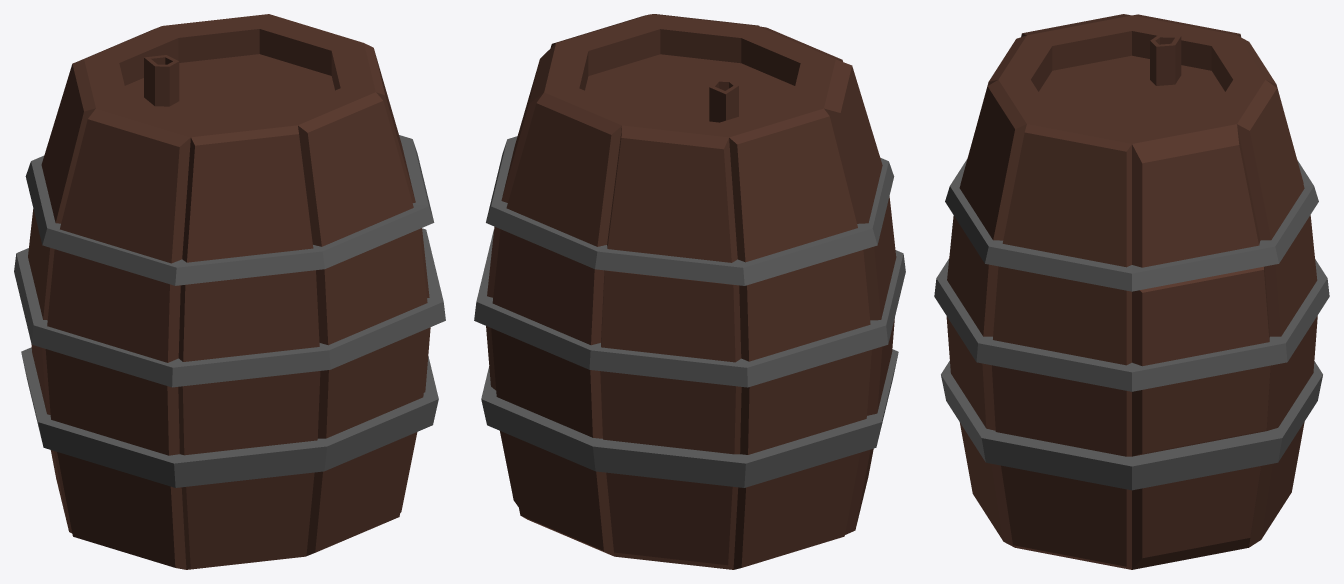
File: BarrelALowPoly.fbx
The picture shows the model from 3 angles, left to right: view 1: azimuth 30°, elevation 25°; view 2: azimuth 150°, elevation 25°; view 3: azimuth 270°, elevation 25°; orthographic projection.
Parts seen in each view (by area): view 1: Cube, Cube.001; view 2: Cube, Cube.001; view 3: Cube, Cube.001.
Boxes of the visible parts, x1,y1,x2,y2 form: Cube: (28, 14, 430, 569); Cube.001: (14, 135, 445, 487); Cube: (486, 14, 896, 569); Cube.001: (474, 136, 905, 487); Cube: (946, 14, 1317, 569); Cube.001: (934, 159, 1329, 490).
Size of the model in its own units: 366 by 388 by 321.
